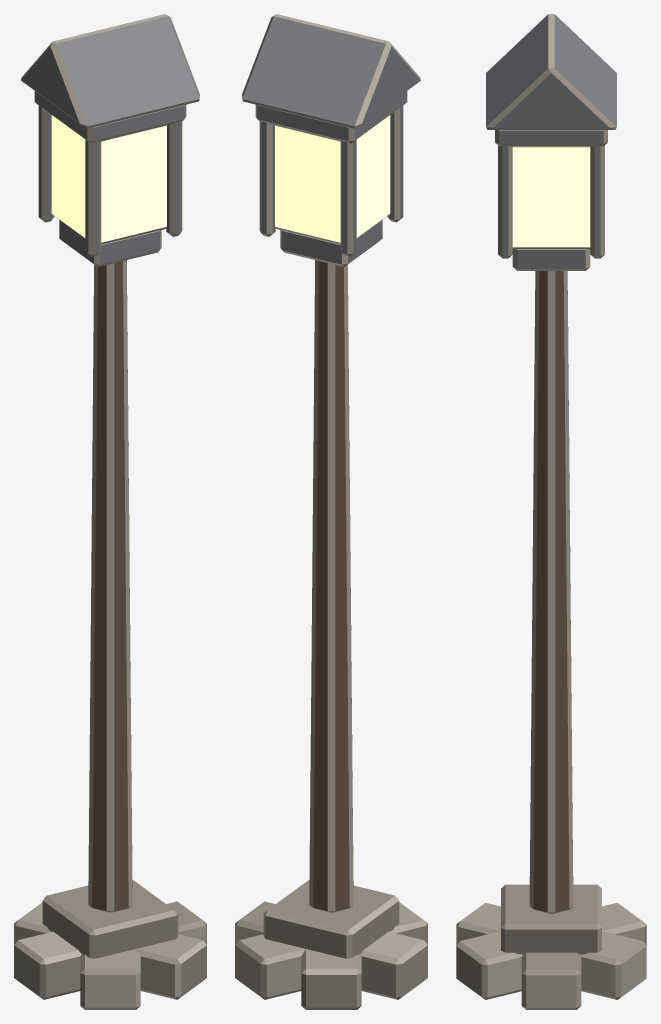
File: SM_Kit_lampiao.fbx
The picture shows the model from 3 angles, left to right: view 1: azimuth 30°, elevation 25°; view 2: azimuth 150°, elevation 25°; view 3: azimuth 270°, elevation 25°; orthographic projection.
Parts seen in each view (by area): view 1: SM_Kit_lampiao; view 2: SM_Kit_lampiao; view 3: SM_Kit_lampiao.
Part boxes in pixels (bbox=[...]): SM_Kit_lampiao: bbox=[14, 14, 206, 1009]; SM_Kit_lampiao: bbox=[235, 14, 427, 1009]; SM_Kit_lampiao: bbox=[456, 14, 646, 1009].
Size of what is drawn, in the model's own units: 64 by 345 by 63.93.
